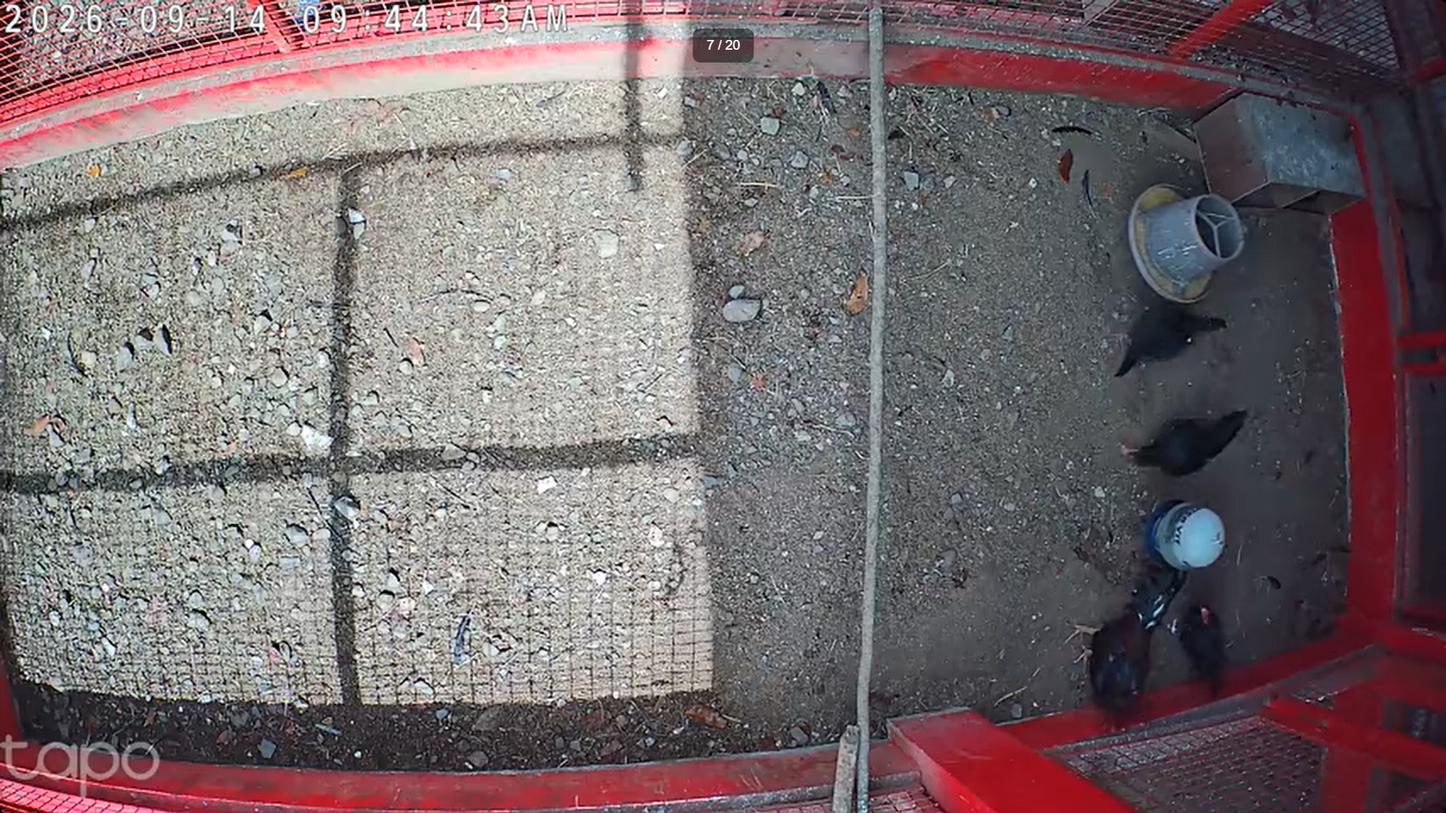Chicken: (1164, 602, 1231, 711)
Leg_Band_White: (1171, 617, 1178, 637)
Rooster: (1063, 561, 1187, 737)
